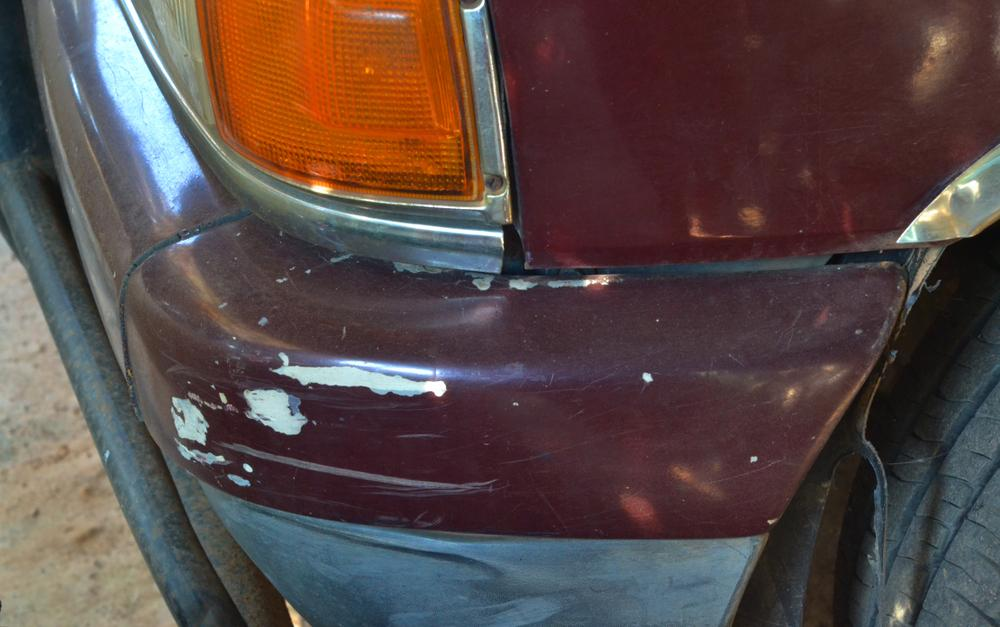scratch: (161, 354, 664, 509)
